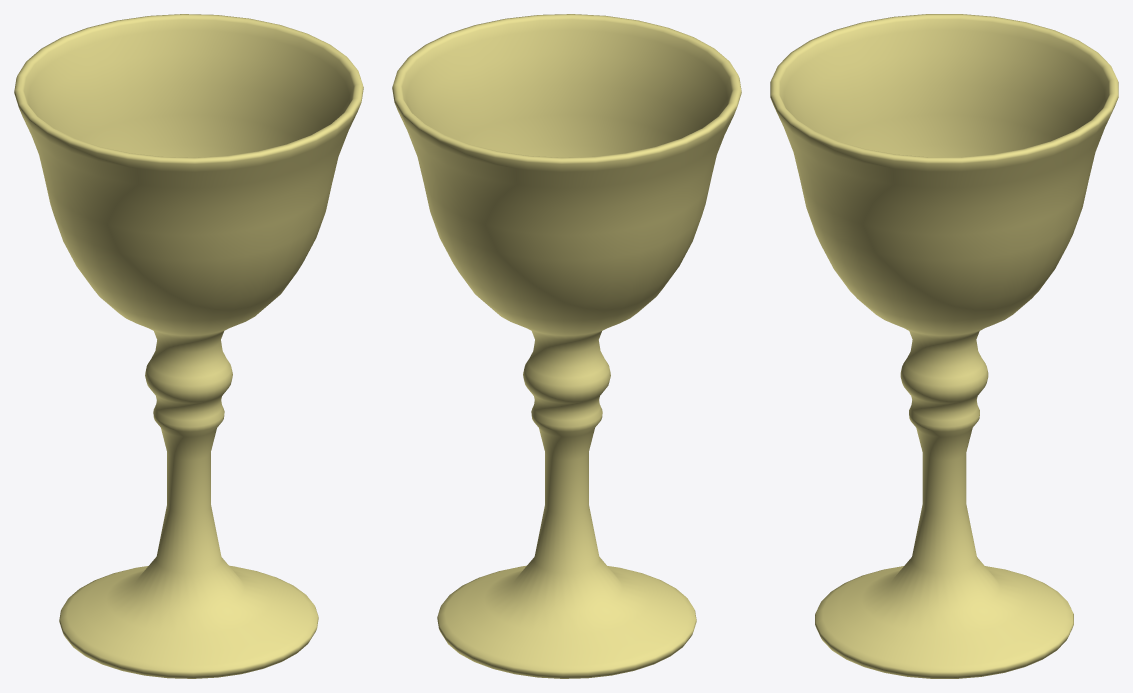
The model's file is Pokal.fbx.
3 views of the same model, side by side, from view 1: azimuth 30°, elevation 25°; view 2: azimuth 150°, elevation 25°; view 3: azimuth 270°, elevation 25° (orthographic).
Visible parts, largest first — view 1: Pokal; view 2: Pokal; view 3: Pokal.
Part boxes in pixels (bbox=[...]): Pokal: bbox=[14, 14, 363, 678]; Pokal: bbox=[392, 14, 741, 678]; Pokal: bbox=[770, 14, 1118, 678].
Bounding box in the file's own units: 96.57 × 165 × 96.57.
